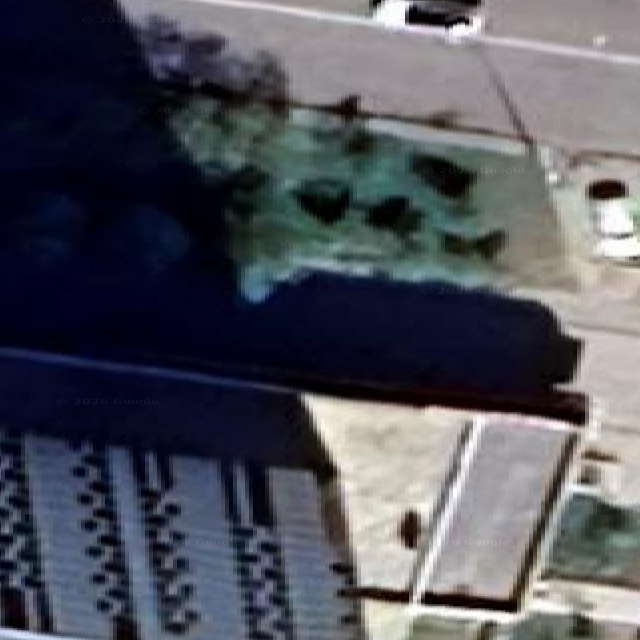car: (587, 179, 639, 263), (372, 0, 483, 36)
